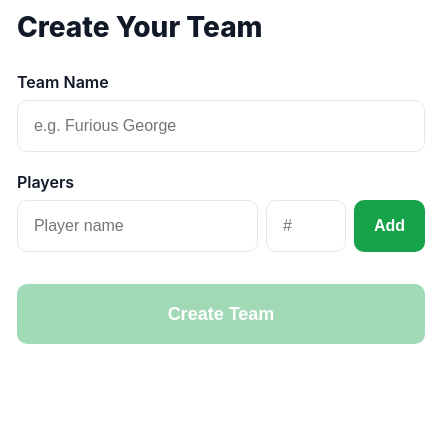
Test: SetupPage › adds a player to the list
Type "Marie" into the field with placeholder "Player name". click: x=137, y=226
box: [17,200,258,252]
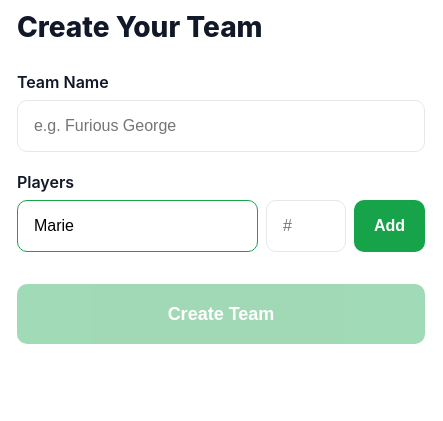
Click the button "Add". click: x=389, y=226
box: [354,200,425,252]
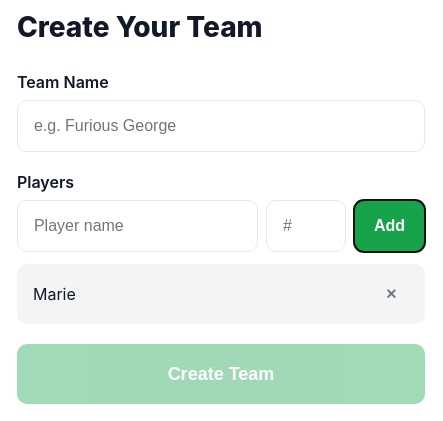
Expected: the text "Marie" is shown, [33,284,76,304]
